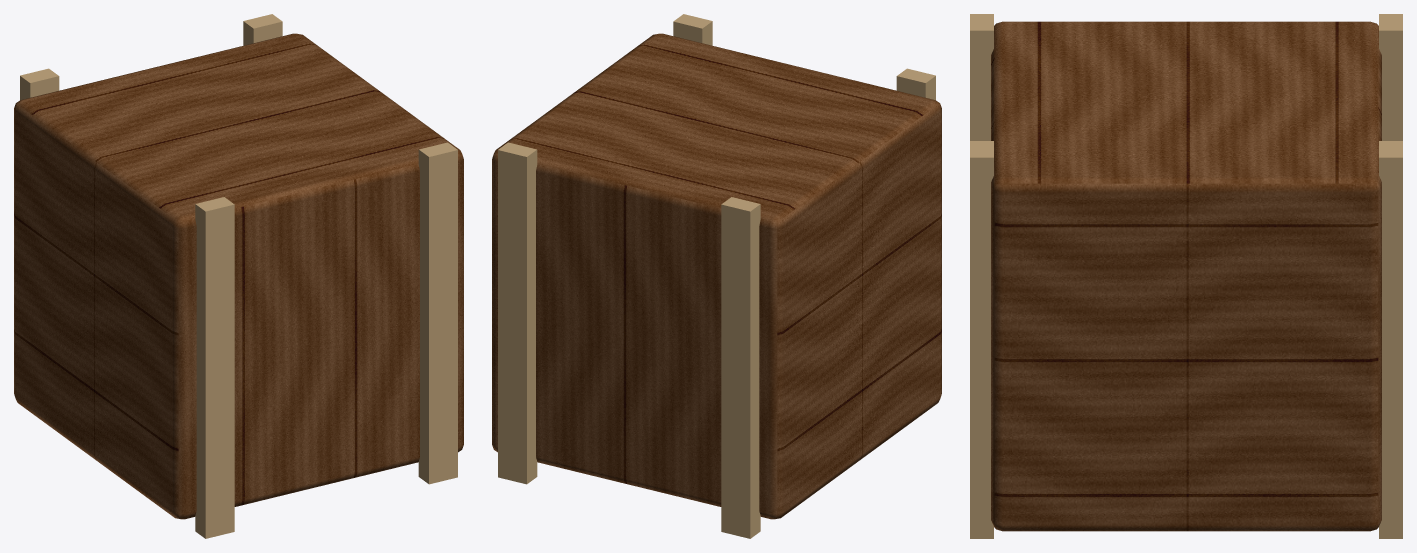
The model's file is prop_crate.glb.
The picture shows the model from 3 angles, left to right: view 1: azimuth 30°, elevation 25°; view 2: azimuth 150°, elevation 25°; view 3: azimuth 270°, elevation 25°; orthographic projection. The views are drawn at different scales.
Visible parts, largest first — view 1: crate, crate_brace; view 2: crate, crate_brace; view 3: crate, crate_brace.
Part boxes in pixels (x1,y1,x2,y2): crate: [14, 33, 463, 519]; crate_brace: [20, 14, 457, 538]; crate: [492, 33, 941, 519]; crate_brace: [498, 14, 935, 538]; crate: [991, 21, 1381, 531]; crate_brace: [970, 14, 1402, 538].
Size of the model in its own units: 1.3 by 1.4 by 1.44.
Materials: 2 (1 with a texture image).
